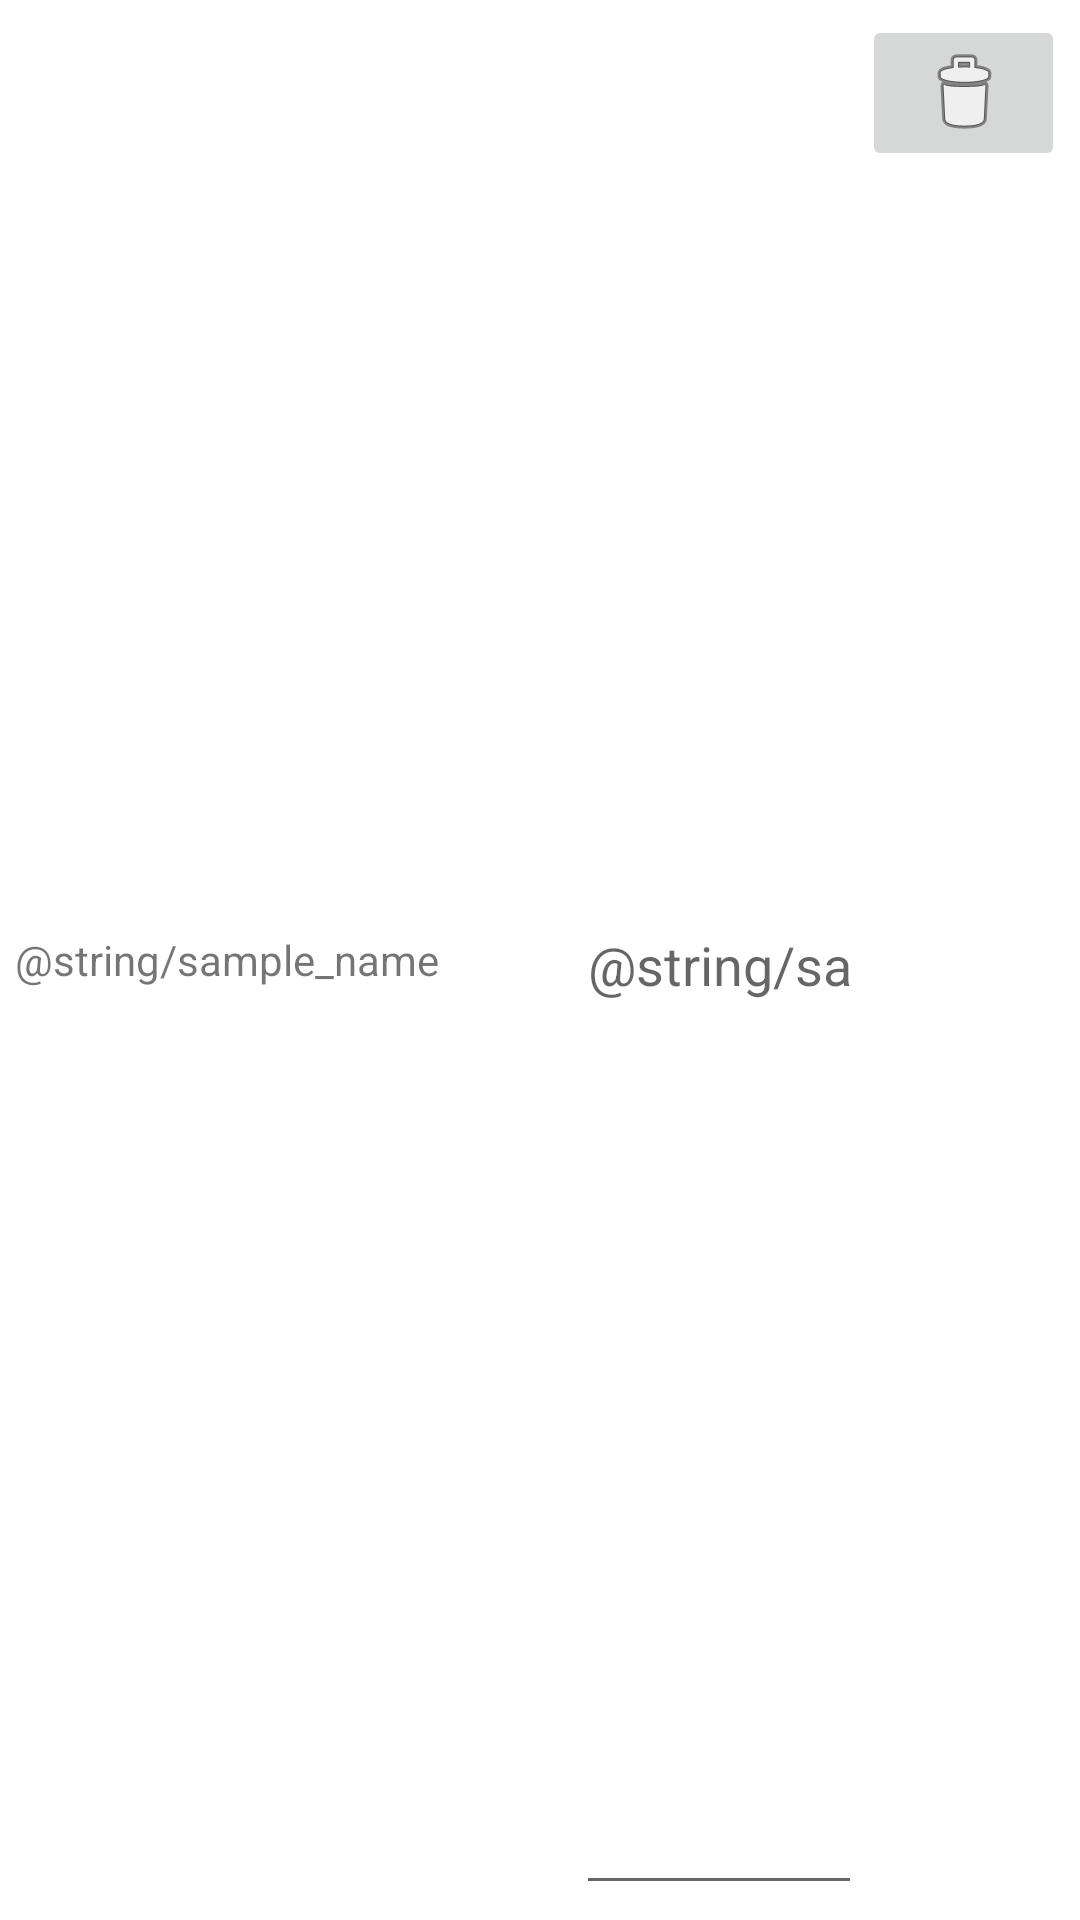

Icons on this 1080px×1920px Android screen, each with the point to tap as [x,y]:
delete: [963,93]
